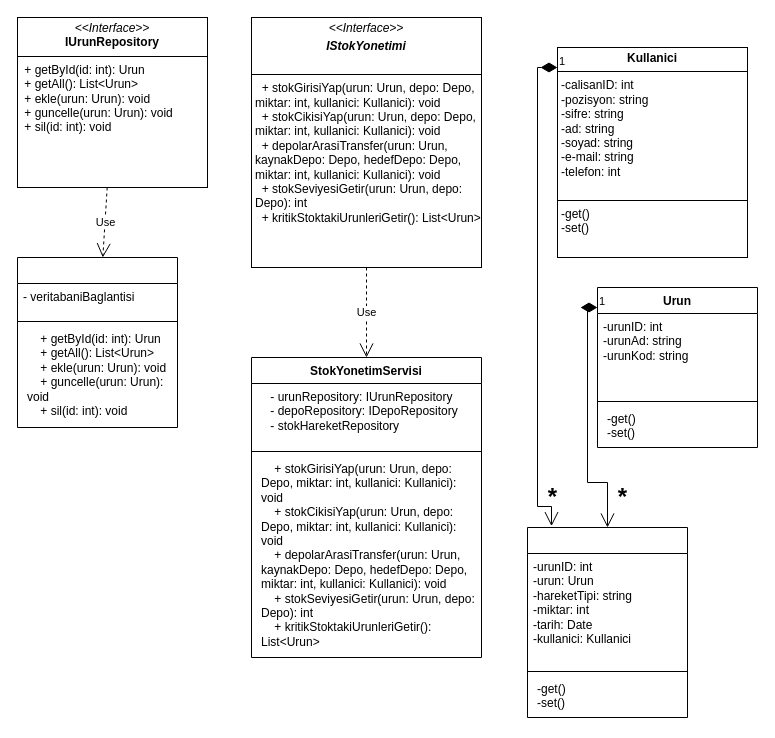
This 775x738 diagram has some shape labels left out. Here are the shapes that lost their labels. From the top down, the box of each, then its label:
(16, 256, 178, 428): UrunRepository
(526, 526, 688, 718): StokHareket
